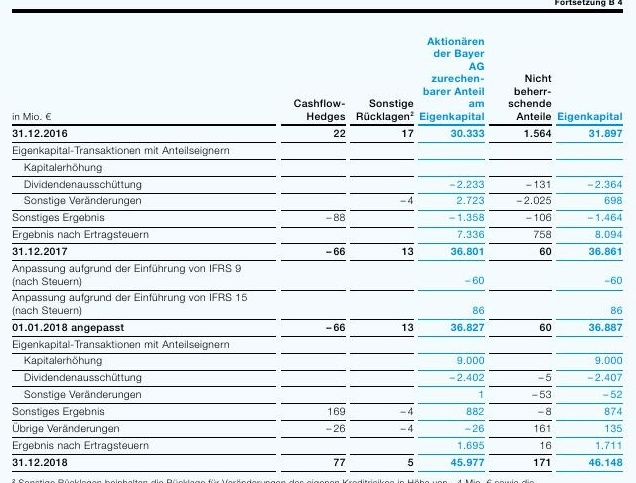table: (0, 0, 636, 483)
